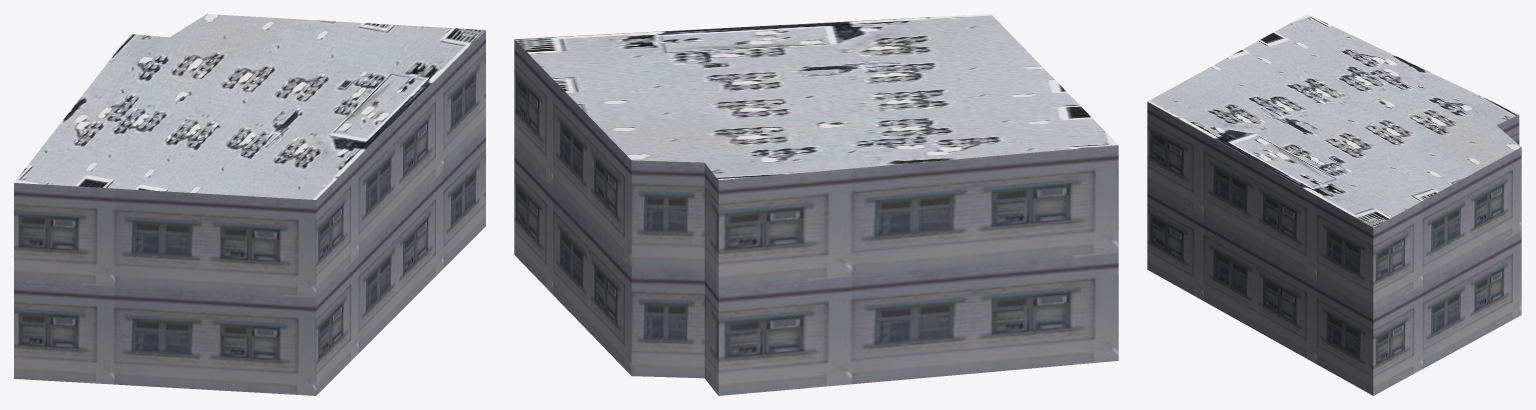
Rendered from ResTex__2940.fbx.
3 views of the same model, side by side, from view 1: azimuth 30°, elevation 25°; view 2: azimuth 150°, elevation 25°; view 3: azimuth 270°, elevation 25° (orthographic). The views are drawn at different scales.
Visible parts, largest first — view 1: CityEngineMaterial_1_m, CityEngineMaterial_4_m; view 2: CityEngineMaterial_1_m, CityEngineMaterial_4_m; view 3: CityEngineMaterial_1_m, CityEngineMaterial_4_m.
Boxes of the visible parts, box(x1,y1,x2,y2) form: CityEngineMaterial_1_m: box(14, 30, 485, 395); CityEngineMaterial_4_m: box(14, 14, 485, 199); CityEngineMaterial_1_m: box(514, 39, 1118, 395); CityEngineMaterial_4_m: box(514, 14, 1118, 180); CityEngineMaterial_1_m: box(1147, 101, 1521, 395); CityEngineMaterial_4_m: box(1148, 14, 1520, 227).
Size of the model in its own units: 16.36 by 6 by 12.09.
Materials: 2 (2 with a texture image).
